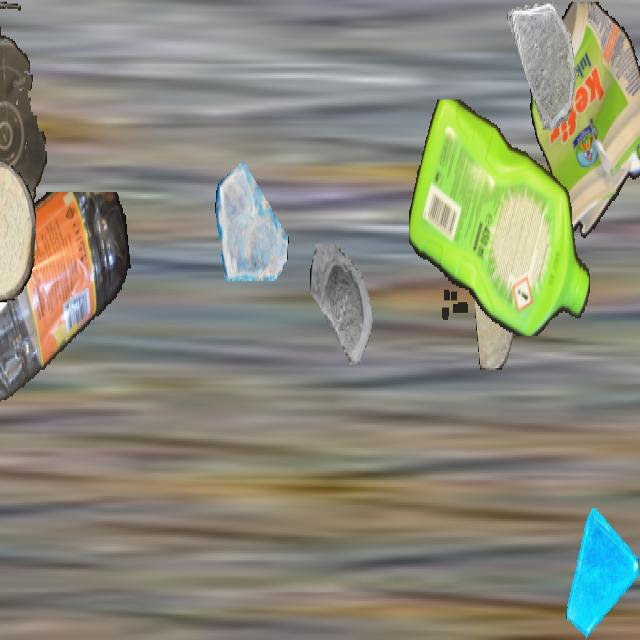glass: (309, 244, 385, 378), (215, 156, 289, 288), (564, 507, 638, 638), (507, 2, 579, 130)
plastic: (409, 100, 591, 334), (0, 192, 133, 441), (529, 2, 640, 247), (0, 2, 48, 236)
wood: (475, 238, 513, 370), (0, 162, 35, 300)
